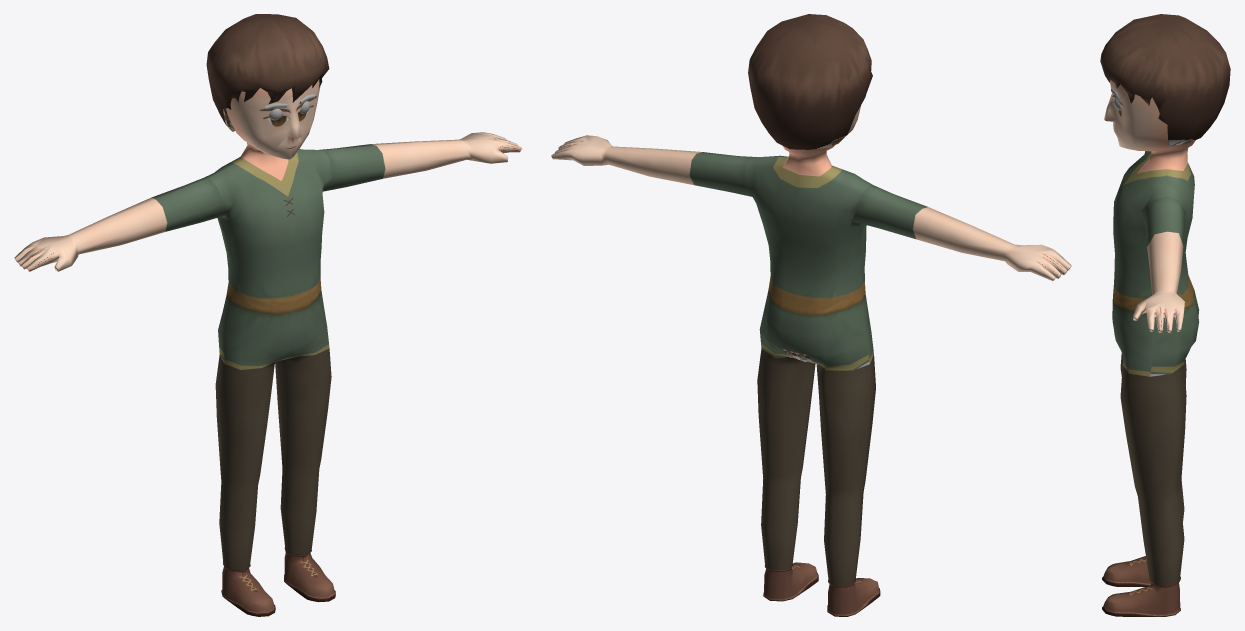
Rendered from PlayerFinalModelGroup.fbx.
3 views of the same model, side by side, from view 1: azimuth 30°, elevation 25°; view 2: azimuth 150°, elevation 25°; view 3: azimuth 270°, elevation 25° (orthographic). The views are drawn at different scales.
Parts seen in each view (by area): view 1: PlayerModelB3; view 2: PlayerModelB3; view 3: PlayerModelB3.
Part boxes in pixels (bbox=[...]): PlayerModelB3: bbox=[14, 14, 522, 616]; PlayerModelB3: bbox=[551, 14, 1071, 616]; PlayerModelB3: bbox=[1100, 14, 1230, 616].
Bounding box in the file's own units: 155 × 169 × 34.75.
2 materials, 1 textured.
